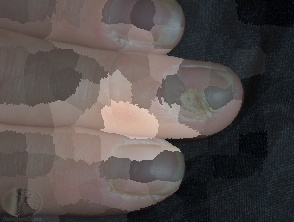Nail_psoriasis: (171, 58, 248, 133), (104, 0, 184, 50)
